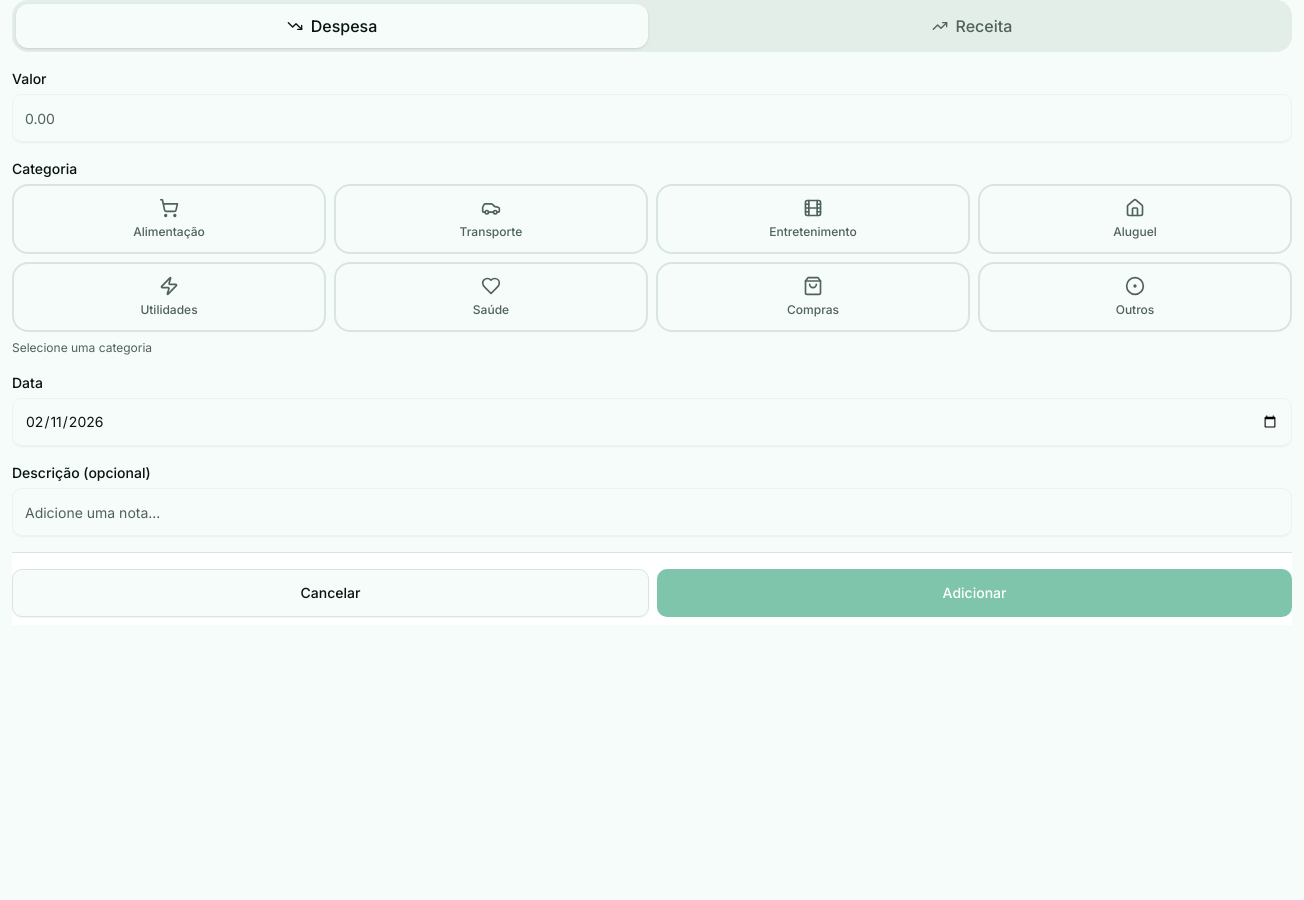
Test: TransactionForm Integration › Form validation › enables submit button when amount and category are provided
Type "100" into the number field with test id "tx-amount" at point(652, 118), box x1=12 y1=94 x2=1292 y2=142
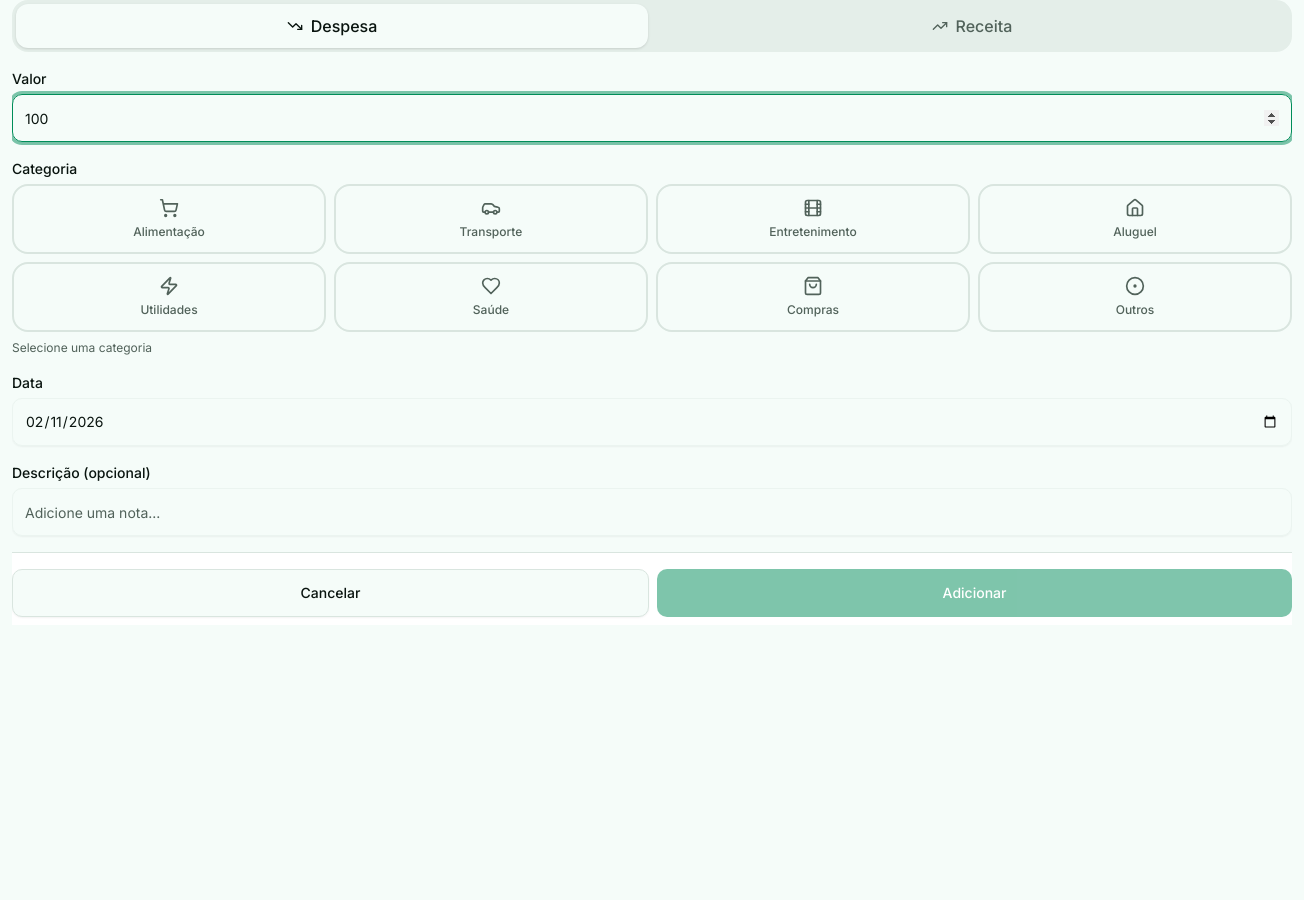
Click the button with test id "tx-category-Groceries" at point(169, 219), box x1=12 y1=184 x2=326 y2=254
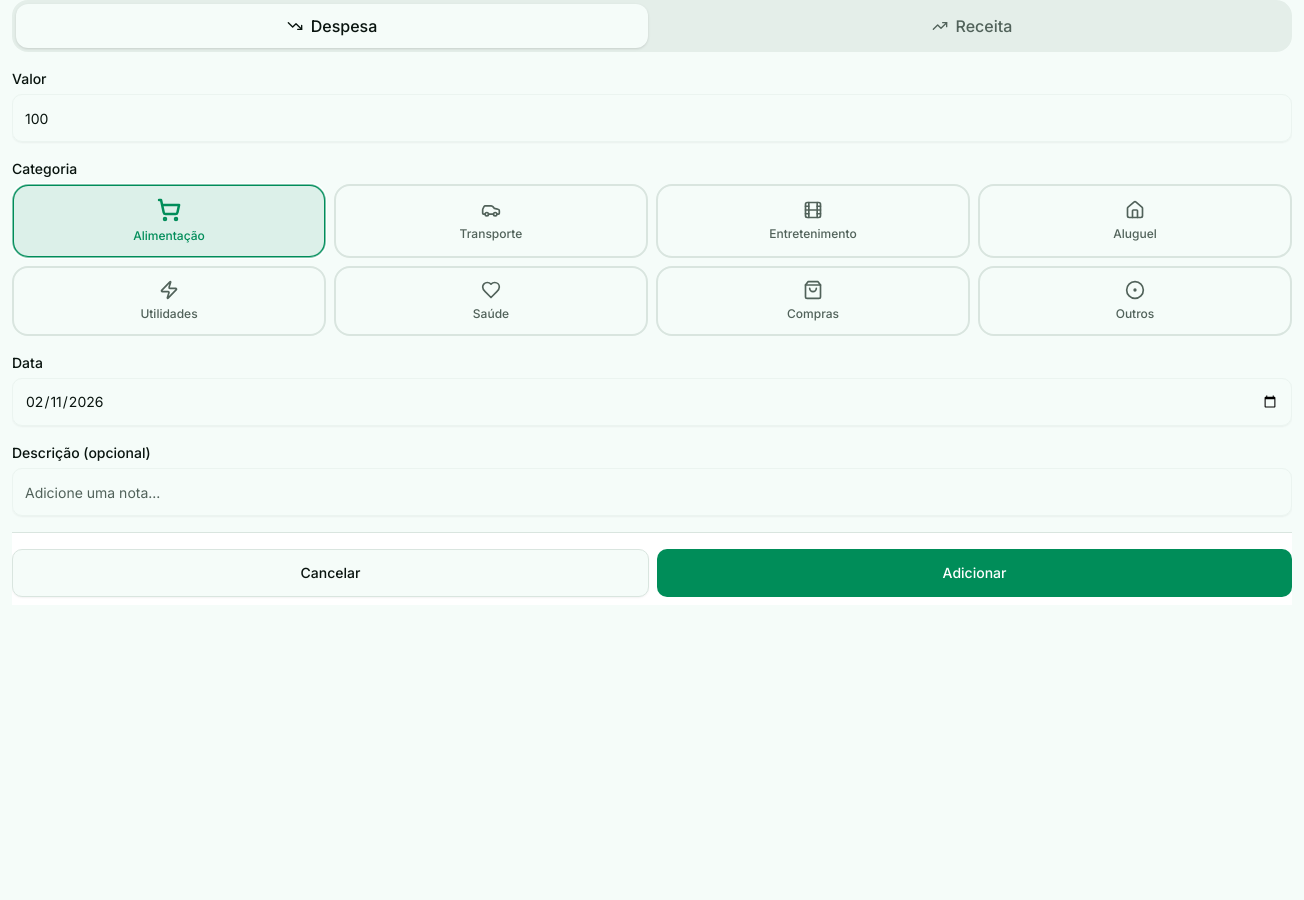
Check: the button with test id "tx-submit" is enabled, box x1=657 y1=549 x2=1292 y2=597
